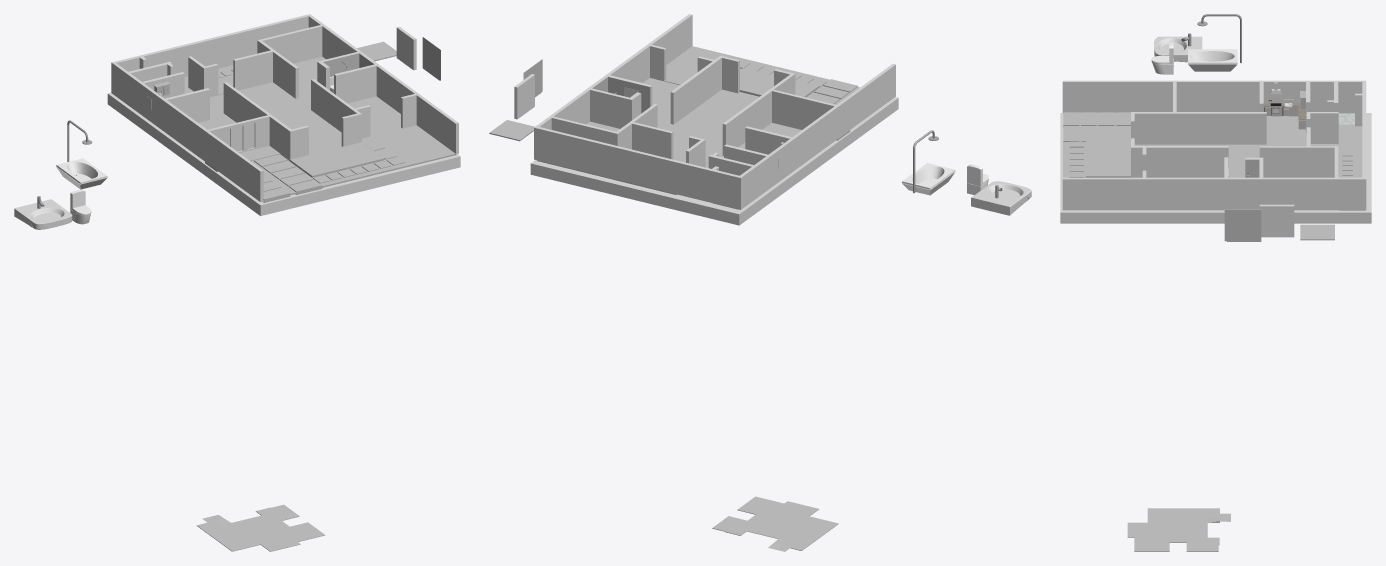
Rendered from house inside 2.fbx.
3 views of the same model, side by side, from view 1: azimuth 30°, elevation 25°; view 2: azimuth 150°, elevation 25°; view 3: azimuth 270°, elevation 25° (orthographic). The views are drawn at different scales.
Parts seen in each view (by area): view 1: Cube.002, Cube.058, Cube.004, Cube.060, Cube.008, Cube, Cube.001, Cube.009, Cube.013, Cube.015, Cube.006, Cube.003 (+2 smaller); view 2: Cube.002, Cube.004, Cube.058, Cube.060, Cube.001, Cube, Cube.008, Cube.013, Cube.009, Cube.015, Cube.003; view 3: Cube.002, Cube, Cube.004, Cube.060, Cube.001, Cube.058, Cube.009, Cube.032, Cube.003, Cube.015, Cube.006, Cube.013 (+4 smaller).
Part boxes in pixels (bbox=[...]): Cube.002: bbox=[111, 14, 458, 201]; Cube.058: bbox=[184, 56, 400, 154]; Cube.004: bbox=[107, 92, 460, 215]; Cube.060: bbox=[196, 504, 325, 551]; Cube.008: bbox=[314, 125, 456, 187]; Cube: bbox=[223, 82, 308, 160]; Cube.001: bbox=[311, 79, 370, 146]; Cube.009: bbox=[289, 142, 384, 177]; Cube.013: bbox=[14, 199, 72, 229]; Cube.015: bbox=[56, 158, 107, 189]; Cube.006: bbox=[188, 56, 218, 97]; Cube.003: bbox=[396, 26, 416, 70]; Cube.002: bbox=[534, 14, 895, 209]; Cube.004: bbox=[530, 92, 898, 225]; Cube.058: bbox=[586, 78, 801, 167]; Cube.060: bbox=[712, 496, 838, 551]; Cube.001: bbox=[670, 55, 739, 124]; Cube: bbox=[722, 69, 795, 155]; Cube.008: bbox=[650, 46, 829, 84]; Cube.013: bbox=[971, 181, 1031, 215]; Cube.009: bbox=[739, 68, 818, 97]; Cube.015: bbox=[902, 163, 955, 195]; Cube.003: bbox=[514, 74, 534, 119]; Cube.002: bbox=[1062, 80, 1366, 210]; Cube: bbox=[1131, 112, 1266, 144]; Cube.004: bbox=[1060, 113, 1371, 223]; Cube.060: bbox=[1127, 508, 1230, 551]; Cube.001: bbox=[1131, 138, 1228, 177]; Cube.058: bbox=[1134, 116, 1362, 177]; Cube.009: bbox=[1085, 140, 1131, 177]; Cube.032: bbox=[1224, 209, 1261, 241]; Cube.003: bbox=[1259, 204, 1294, 237]; Cube.015: bbox=[1188, 49, 1237, 71]; Cube.006: bbox=[1306, 112, 1338, 143]; Cube.013: bbox=[1154, 36, 1202, 62].
Size of the model in its own units: 35533 by 33197 by 21489.
